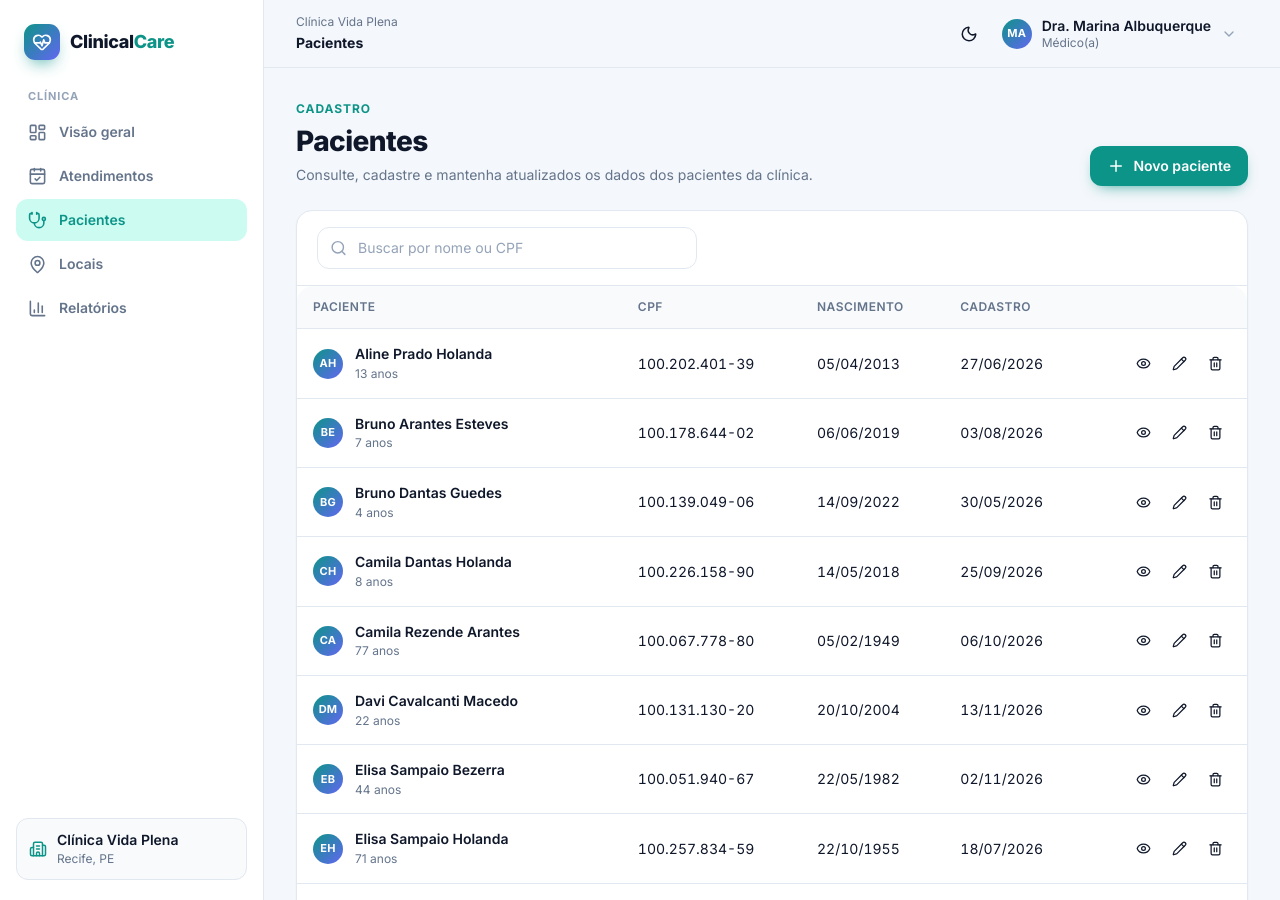
Test: pacientes › abre o histórico do paciente
Step 1. Click the button named "Ver " → (1143, 364), box [1127, 348, 1159, 380]
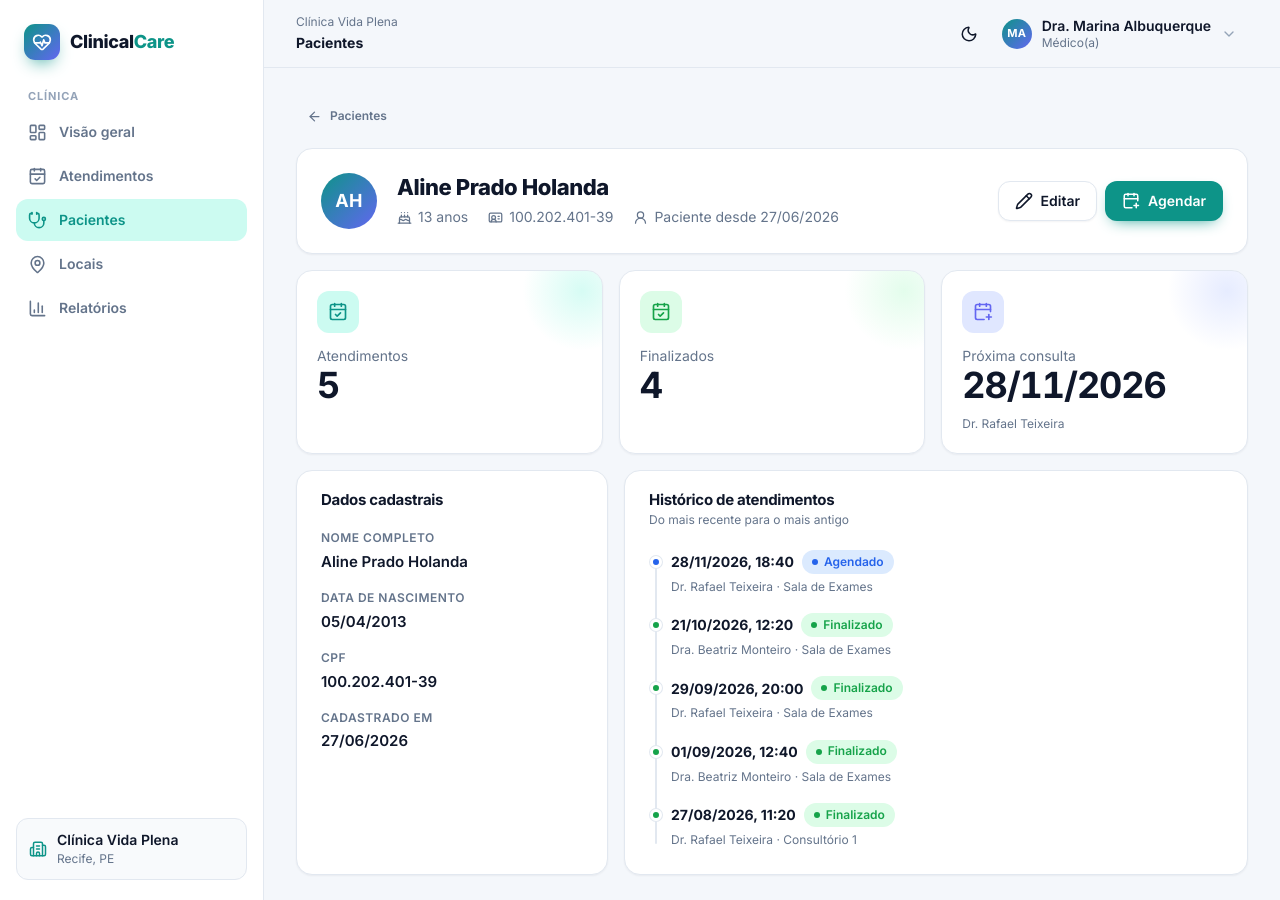
Now the heading "Histórico de atendimentos" is shown, box [649, 491, 849, 509]
